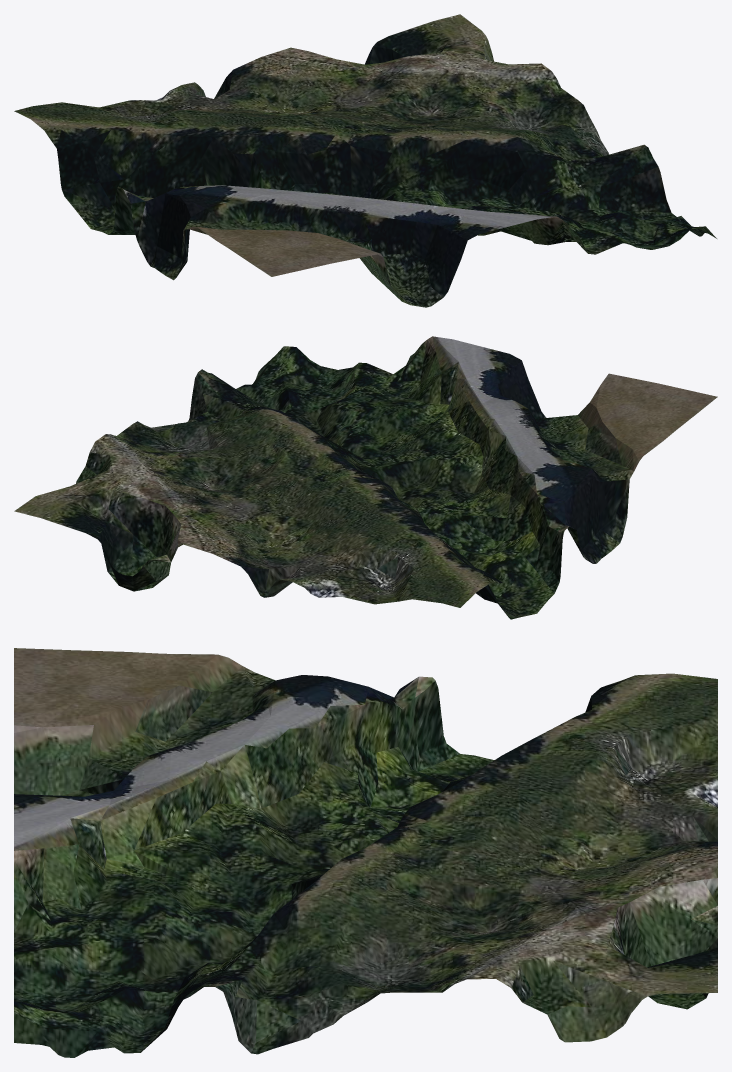
File: map_15_8182_13779.dae
3 views of the same model, one above another, from view 1: azimuth 30°, elevation 25°; view 2: azimuth 150°, elevation 25°; view 3: azimuth 270°, elevation 25° (orthographic). The views are drawn at different scales.
Visible parts, largest first — view 1: Ter0; view 2: Ter0; view 3: Ter0.
Boxes of the visible parts, x1,y1,x2,y2 form: Ter0: [14, 14, 716, 307]; Ter0: [14, 336, 717, 619]; Ter0: [14, 648, 717, 1057].
Size of the model in its own units: 63.88 by 63.88 by 12.55.
3 materials, 3 textured.
